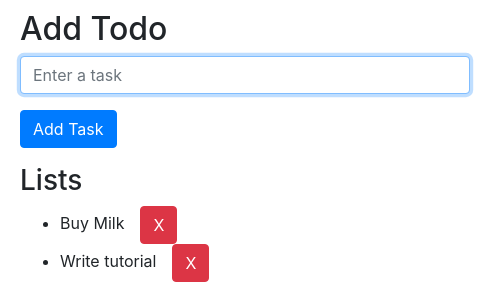
Form › should deletes a todo
The image size is (491, 299).
Click the button with class "btn-danger" next to "Buy Milk" at (159, 225), box x1=140 y1=206 x2=177 y2=244
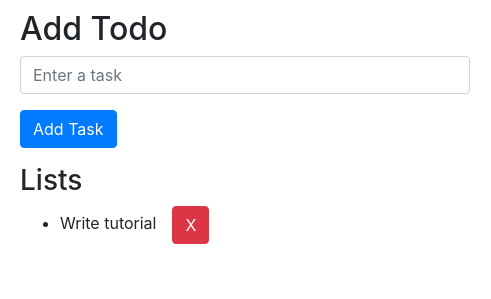
Expected: the number of list items is 1, x1=60 y1=206 x2=209 y2=244
